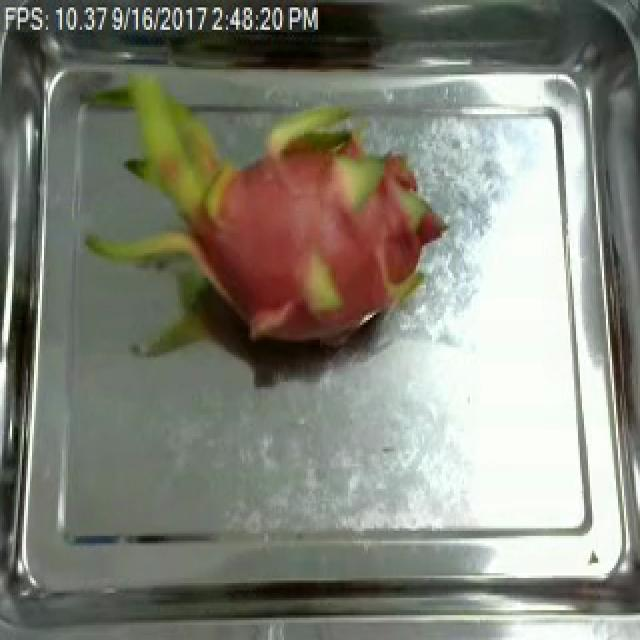fruit: (78, 57, 454, 387)
